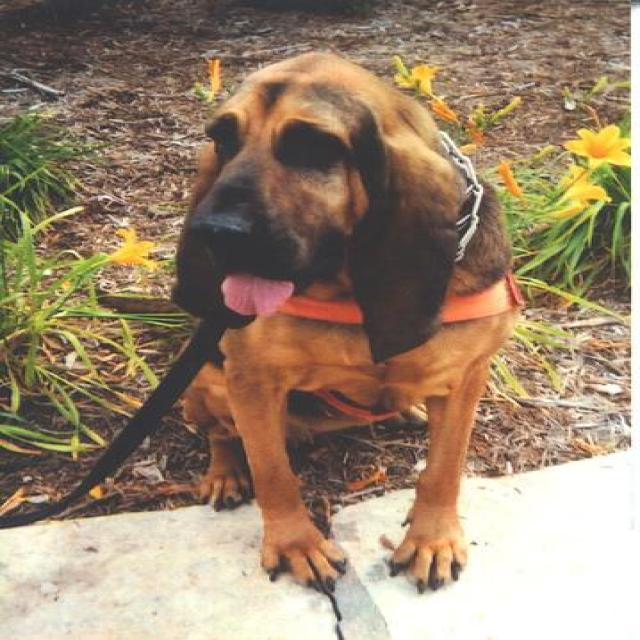bloodhound: (171, 51, 514, 590)
